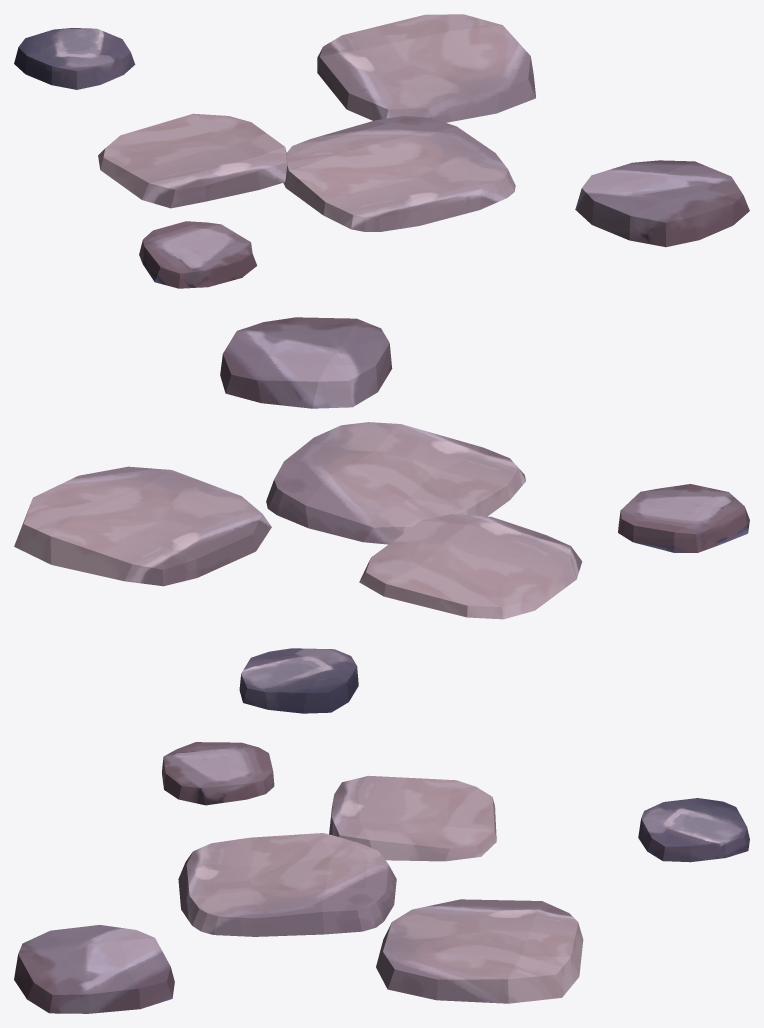
File: rocks_4.fbx
3 renders of one model, top to bottom at view 1: azimuth 30°, elevation 25°; view 2: azimuth 150°, elevation 25°; view 3: azimuth 270°, elevation 25°, orthographic. The views are drawn at different scales.
Parts seen in each view (by area): view 1: Cube; view 2: Cube; view 3: Cube.
Part boxes in pixels (<box>): Cube: <box>14,14,749,288</box>; Cube: <box>14,317,749,713</box>; Cube: <box>14,742,749,1013</box>.
Size of the model in its own units: 195 by 9.03 by 236.
